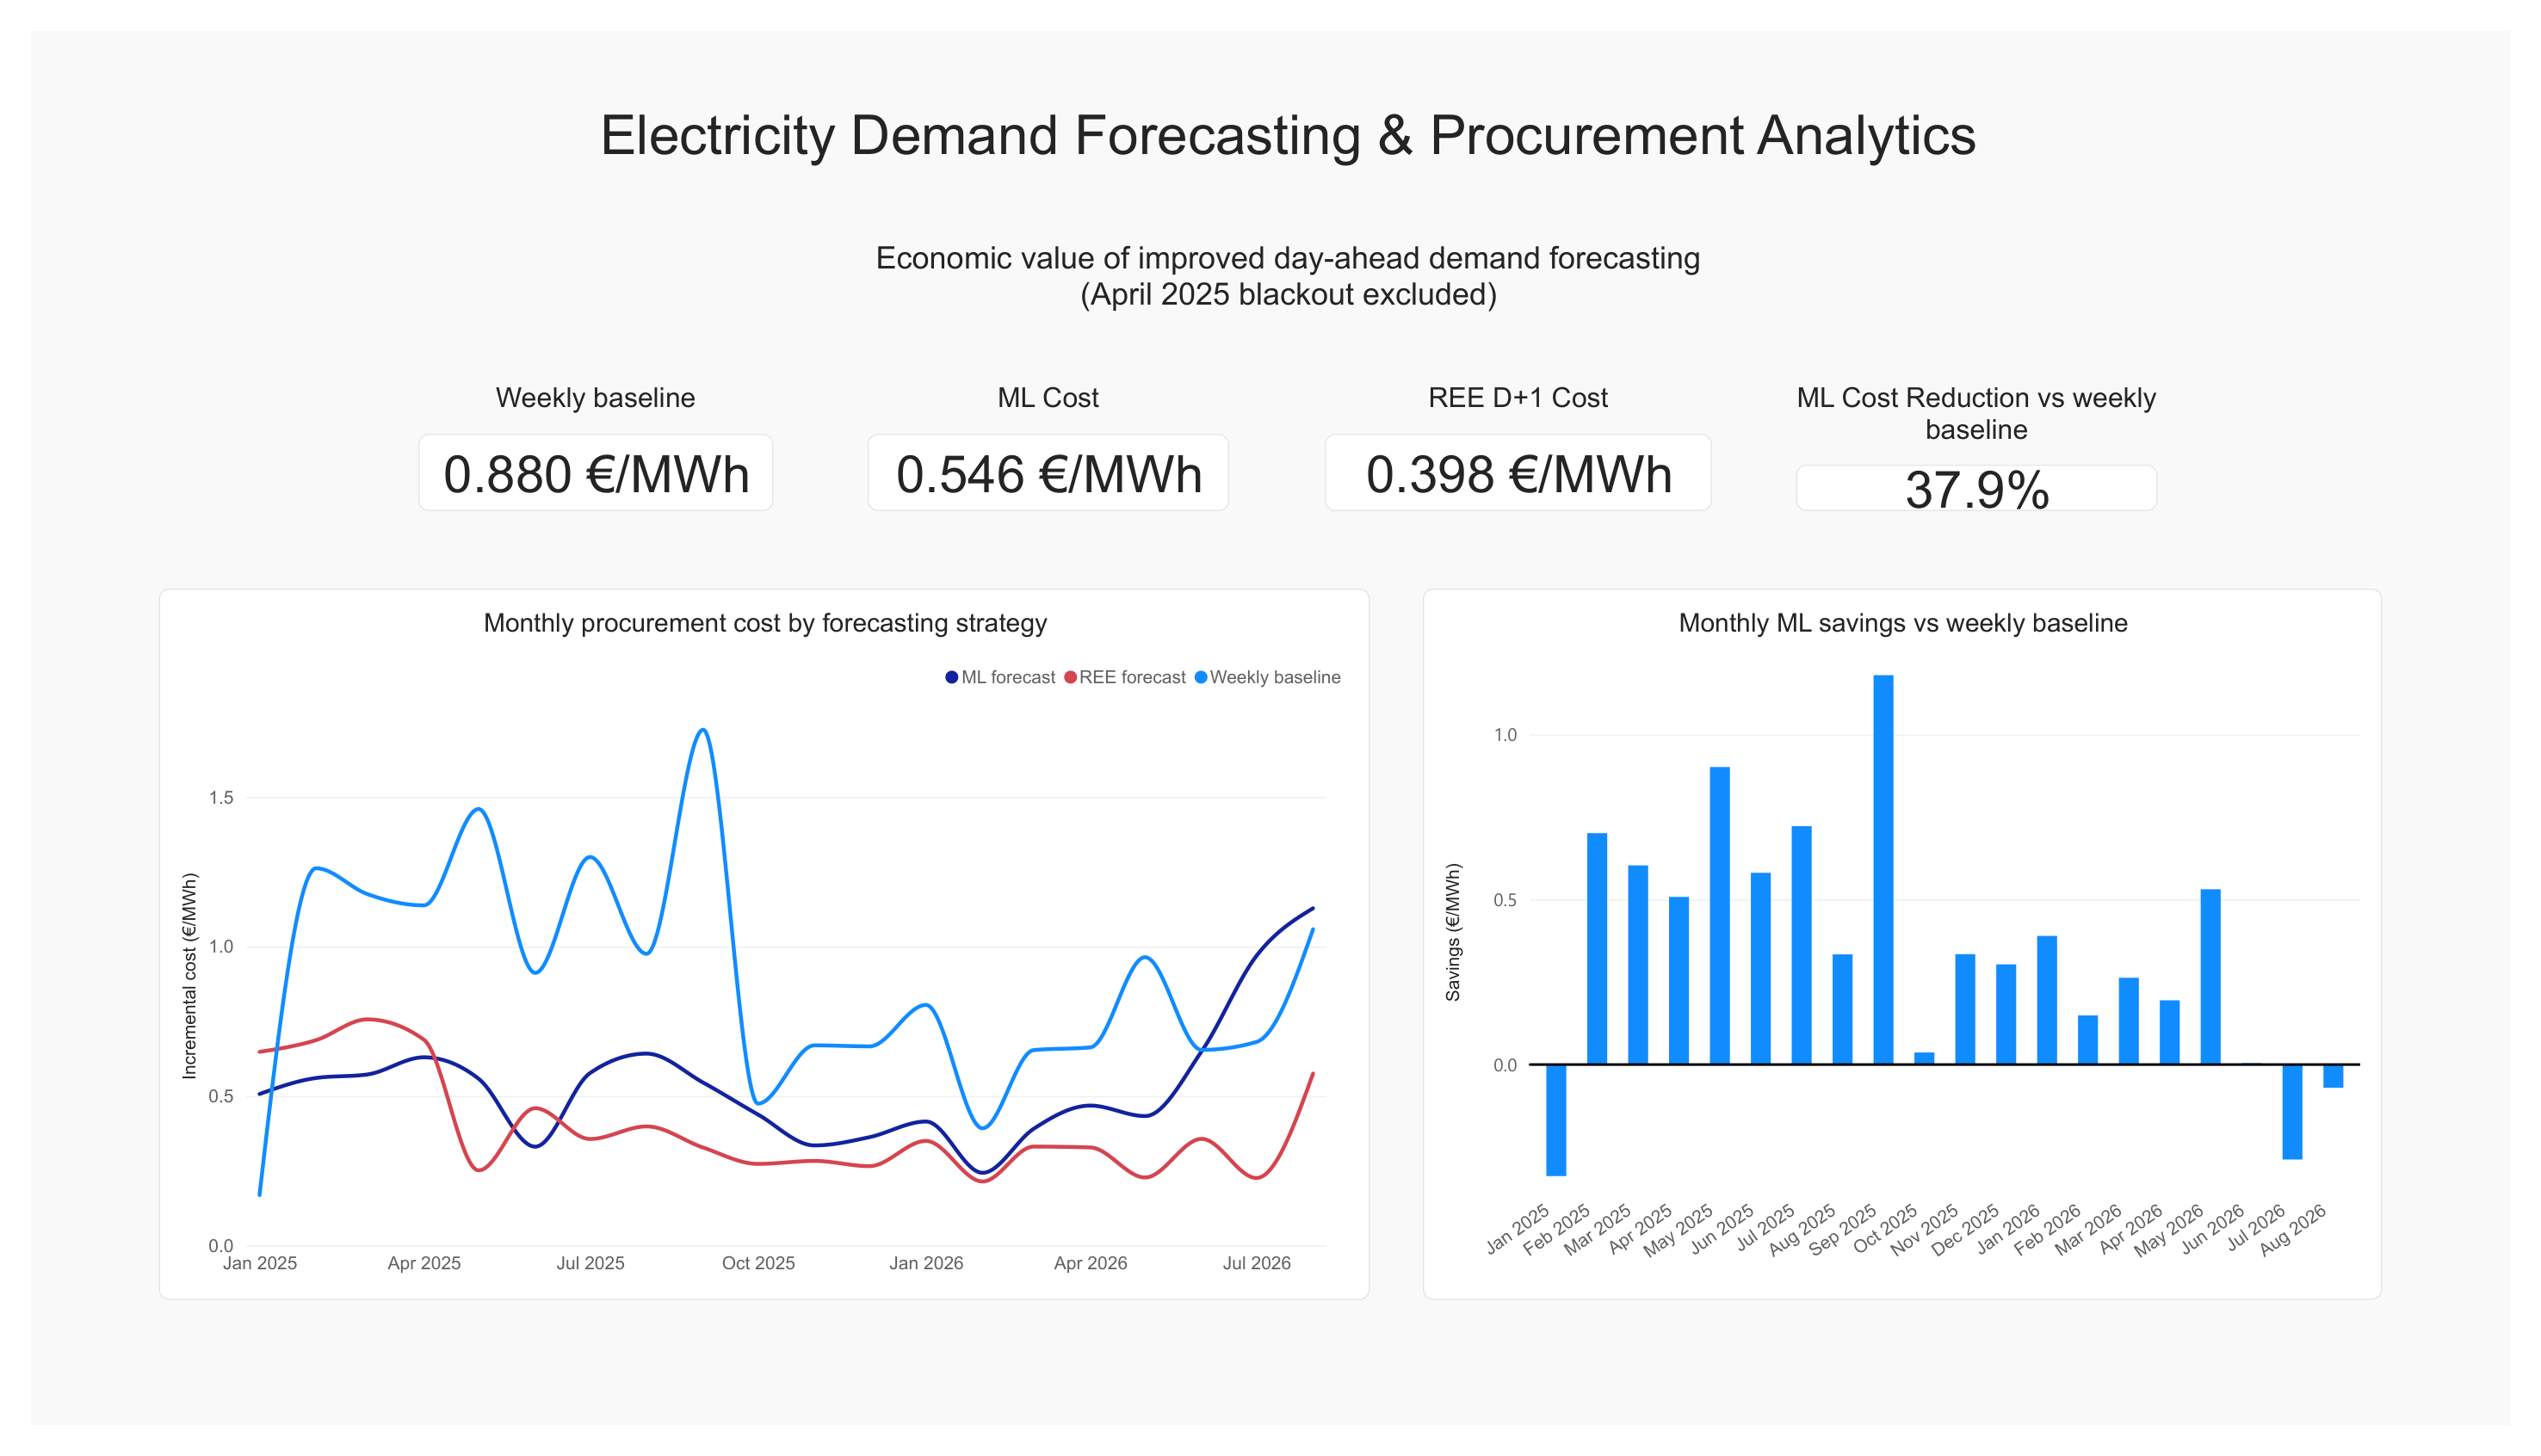

The page's visual inventory and layout, read from the dashboard file:
{"tool":"powerbi","page":{"name":"Executive Summary","canvas":[1920,1080],"ordinal":0},"visuals":[{"type":"cardVisual","title":"Weekly baseline","fields":{"Data":["public vw_strategy_summary.Lag168 Cost €/MWh"]},"box":[300.2,272.2,275,100],"z":0},{"type":"cardVisual","title":"ML Cost","fields":{"Data":["public vw_strategy_summary.ML Cost €/MWh"]},"box":[648,272.2,280,100],"z":1000},{"type":"cardVisual","title":"ML Cost Reduction vs weekly baseline","fields":{"Data":["public vw_strategy_summary.ML Cost Reduction %"]},"box":[1367.3,272.2,280,100],"z":2000},{"type":"cardVisual","title":"REE D+1 Cost","fields":{"Data":["public vw_strategy_summary.REE D+1 Cost €/MWh"]},"box":[1002.2,272.2,300,100],"z":3000},{"type":"textbox","box":[300.2,56.2,1347.8,198.7],"z":4000},{"type":"lineChart","title":"Monthly procurement cost by forecasting strategy","fields":{"Category":["public vw_monthly_costs.month.Variación.Jerarquía de fechas.Año","public vw_monthly_costs.month.Variación.Jerarquía de fechas.Mes"],"Series":["public vw_monthly_costs.Strategy Label"],"Y":["Sum(public vw_monthly_costs.incremental_cost_eur_per_mwh)"]},"box":[99.4,432,937.4,550.8],"z":5000},{"type":"clusteredColumnChart","title":"Monthly ML savings vs weekly baseline","fields":{"Category":["public vw_monthly_savings.Month Label"],"Y":["Sum(public vw_monthly_savings.ml_savings_vs_lag168_eur_per_mwh)"]},"box":[1077.8,432,743,550.8],"z":6000}]}

Visuals, with their boxes in screenshot pixels (x1, y1, x2, y2), scaled from the page's 1920x1080 canvas onto the 2541x1456 screenshot:
"Weekly baseline" cardVisual: BBox(398, 367, 761, 502)
"ML Cost" cardVisual: BBox(857, 367, 1228, 502)
"ML Cost Reduction vs weekly baseline" cardVisual: BBox(1809, 367, 2180, 502)
"REE D+1 Cost" cardVisual: BBox(1326, 367, 1723, 502)
textbox: BBox(398, 76, 2181, 343)
"Monthly procurement cost by forecasting strategy" lineChart: BBox(132, 583, 1372, 1325)
"Monthly ML savings vs weekly baseline" clusteredColumnChart: BBox(1426, 583, 2409, 1325)
